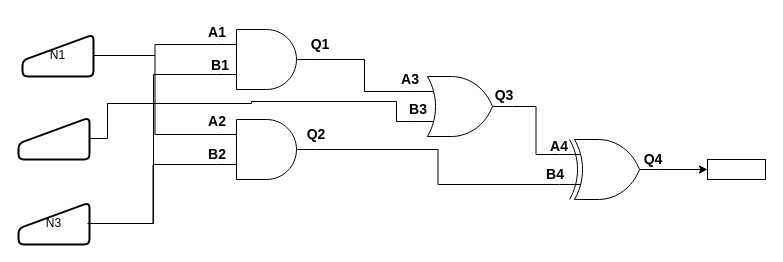
The diagram is 783 pixels wide and 262 high, and some of its shapes have lost their labels. The centre of each missing label's shape, as x and y in pixels:
N2: [53,138]
PO: [736,169]
